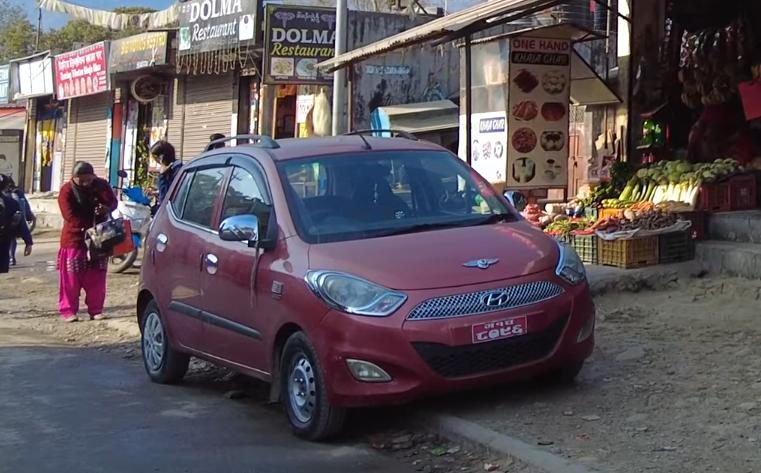car: (139, 135, 594, 424)
scooter: (106, 169, 151, 280)
